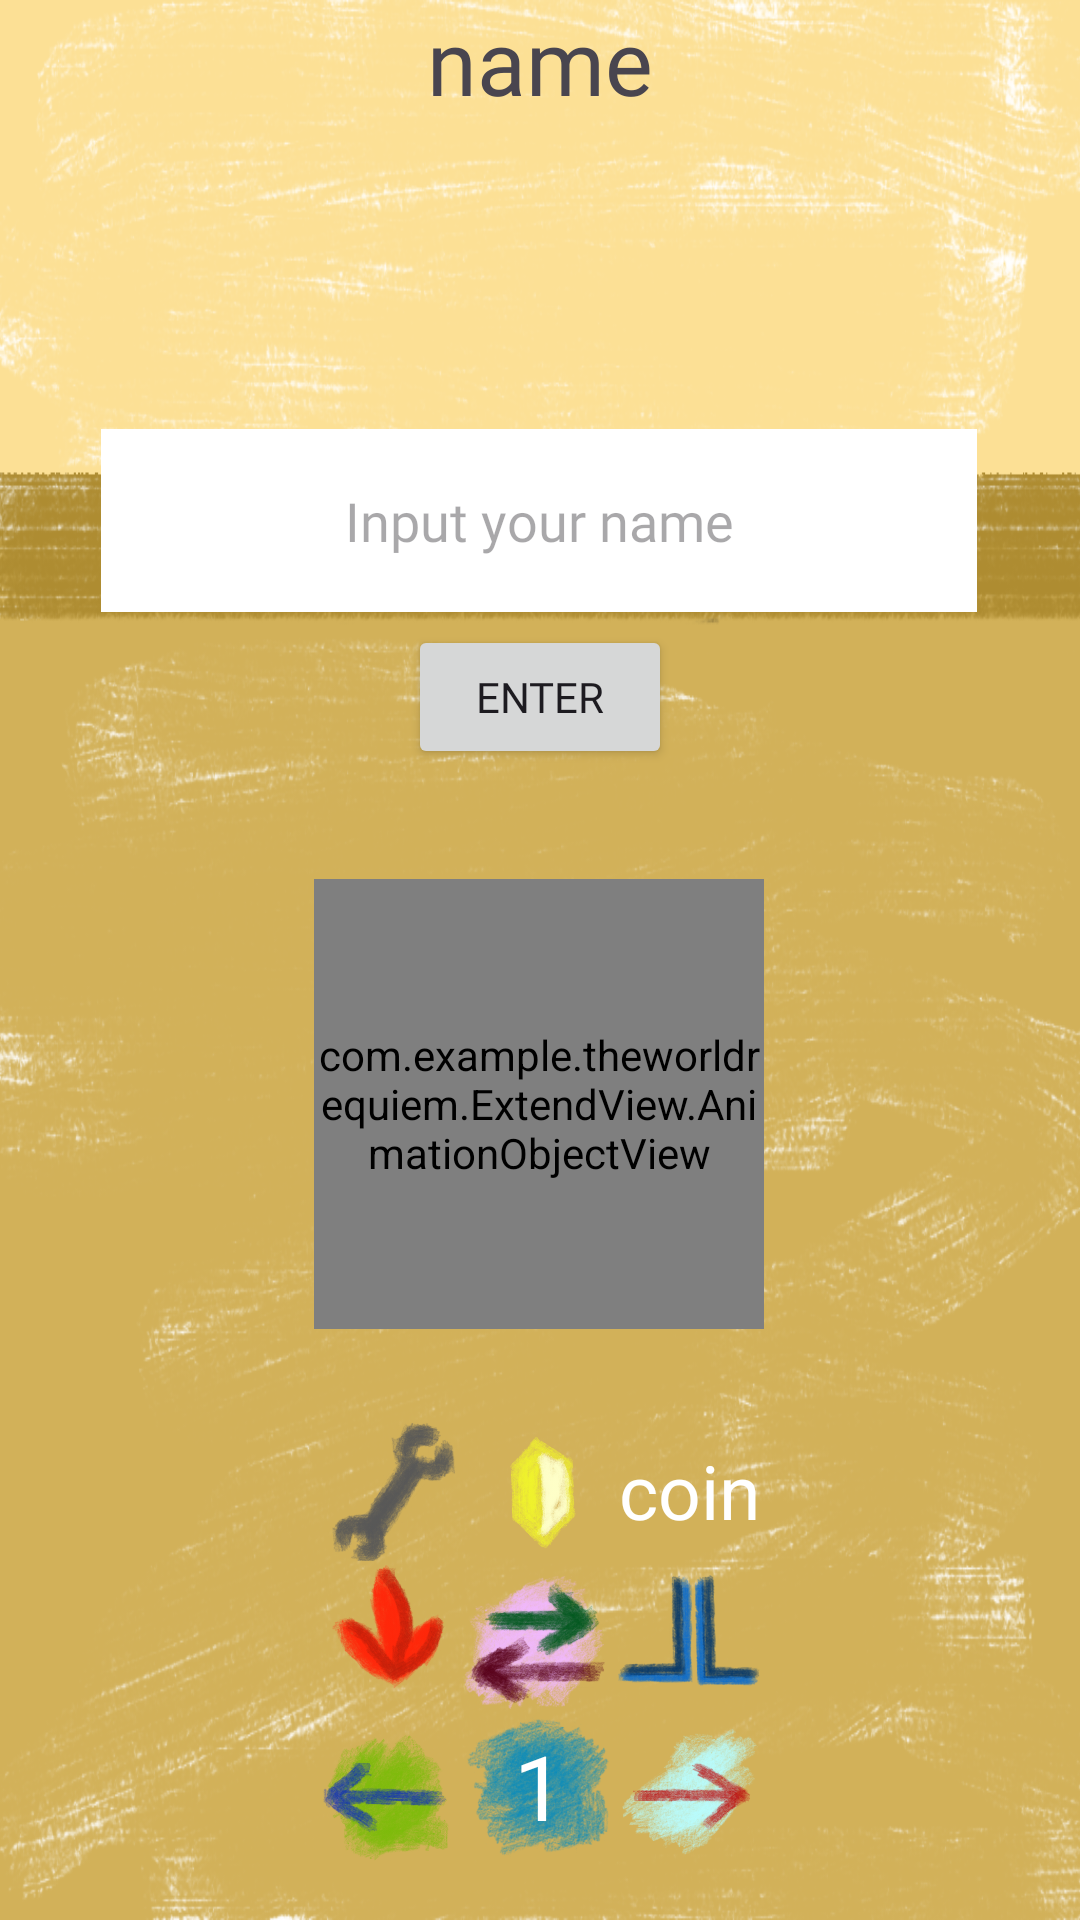

Icons on this 1080×1920 Android screen, each with the point to tap as [x,y]:
burn: [389,1638]
select left: [386,1785]
select right: [689,1785]
settings: [394,1492]
switch item: [539,1642]
